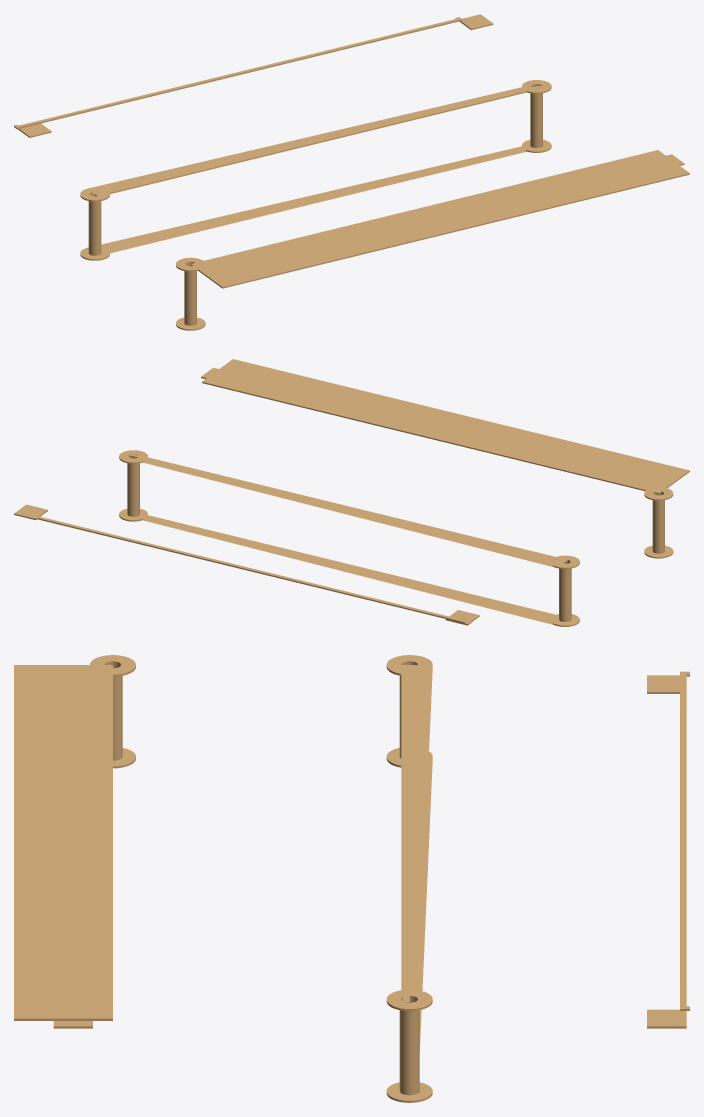
Rendered from board.glb.
The picture shows the model from 3 angles, top to bottom: view 1: azimuth 30°, elevation 25°; view 2: azimuth 150°, elevation 25°; view 3: azimuth 270°, elevation 25°; orthographic projection. The views are drawn at different scales.
Visible parts, largest first — view 1: Unified_Net_5_Island_0, Unified_Net_1_Island_0 (×2), Unified_Net_3_Island_0, Unified_Net_4_Island_0, Bare_Via_Tube_2, Bare_Via_Tube_4, Bare_Via_Tube_3; view 2: Unified_Net_5_Island_0, Unified_Net_1_Island_0 (×2), Unified_Net_3_Island_0, Unified_Net_4_Island_0, Bare_Via_Tube_4, Bare_Via_Tube_3, Bare_Via_Tube_2; view 3: Unified_Net_5_Island_0, Unified_Net_1_Island_0 (×2), Unified_Net_3_Island_0, Unified_Net_4_Island_0, Bare_Via_Tube_3, Bare_Via_Tube_4, Substrate_Layer_1_Z0, Unified_Net_2_Island_0, Unified_Net_1_Island_1.
Boxes of the visible parts, <box> form: Unified_Net_5_Island_0: <box>190,150,689,288</box>; Unified_Net_1_Island_0 (×2): <box>80,84,539,260</box>; Unified_Net_3_Island_0: <box>14,17,462,129</box>; Unified_Net_4_Island_0: <box>95,85,541,195</box>; Bare_Via_Tube_2: <box>88,192,101,255</box>; Bare_Via_Tube_4: <box>184,261,196,325</box>; Bare_Via_Tube_3: <box>530,84,542,147</box>; Unified_Net_5_Island_0: <box>202,359,689,494</box>; Unified_Net_1_Island_0 (×2): <box>128,454,579,626</box>; Unified_Net_3_Island_0: <box>32,515,471,625</box>; Unified_Net_4_Island_0: <box>130,454,567,562</box>; Bare_Via_Tube_4: <box>652,491,664,553</box>; Bare_Via_Tube_3: <box>127,454,139,516</box>; Bare_Via_Tube_2: <box>559,560,571,621</box>; Unified_Net_5_Island_0: <box>14,665,112,1020</box>; Unified_Net_1_Island_0 (×2): <box>386,655,432,1050</box>; Unified_Net_3_Island_0: <box>680,671,689,1010</box>; Unified_Net_4_Island_0: <box>403,665,409,1002</box>; Bare_Via_Tube_3: <box>399,996,419,1095</box>; Bare_Via_Tube_4: <box>105,661,122,760</box>; Substrate_Layer_1_Z0: <box>647,1009,686,1028</box>; Unified_Net_2_Island_0: <box>90,655,135,676</box>; Unified_Net_1_Island_1: <box>386,990,432,1010</box>.
Size of the model in its own units: 0.0132 by 0.00157 by 0.0103.
